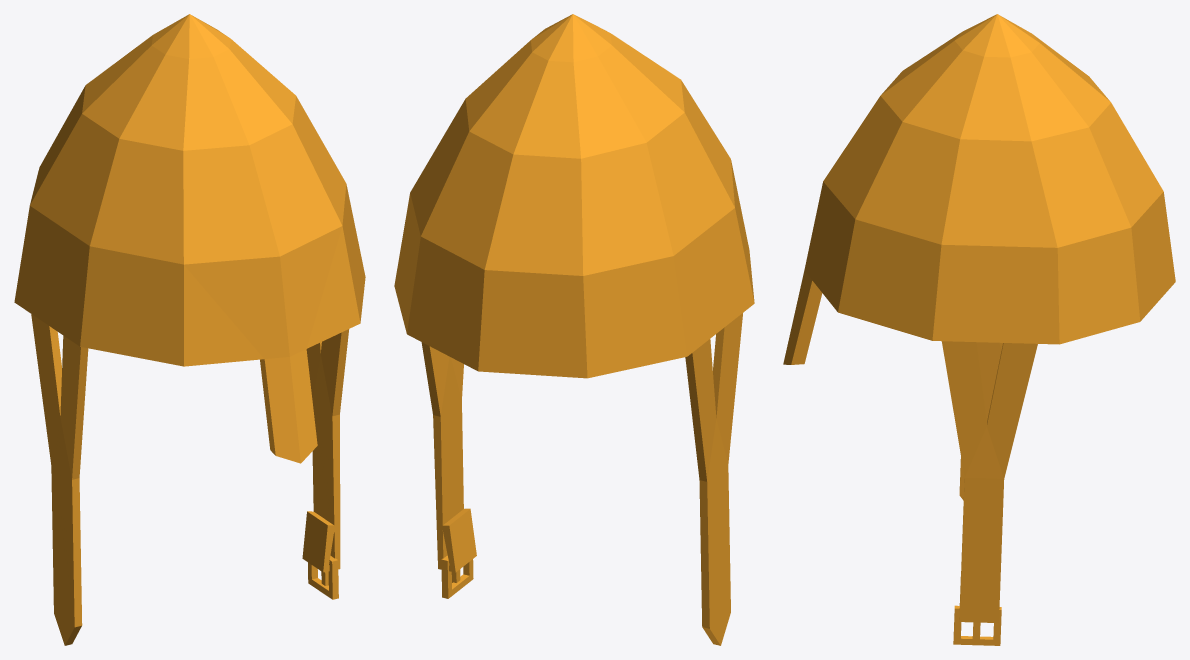
The model's file is SM_Helmet_Nasal.fbx.
The picture shows the model from 3 angles, left to right: view 1: azimuth 30°, elevation 25°; view 2: azimuth 150°, elevation 25°; view 3: azimuth 270°, elevation 25°; orthographic projection. The views are drawn at different scales.
Parts seen in each view (by area): view 1: helmet-nasal; view 2: helmet-nasal; view 3: helmet-nasal.
Part boxes in pixels (box(x1,y1,x2,y2)): helmet-nasal: box(14, 14, 365, 645); helmet-nasal: box(394, 14, 754, 645); helmet-nasal: box(783, 14, 1175, 645).
Bounding box in the file's own units: 0.2106 × 0.4228 × 0.2625.
